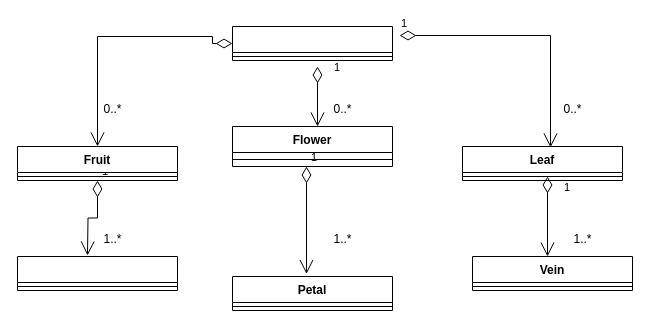
This 650x329 diagram has some shape labels left out. The centre of each missing label's shape, as x and y in pixels:
Plant: the point at 312,43
Seed: the point at 97,273
